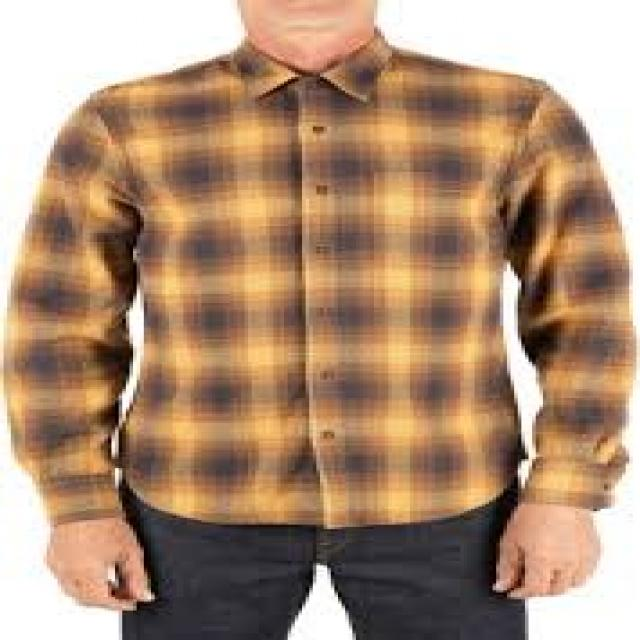plaid: (15, 51, 626, 524)
